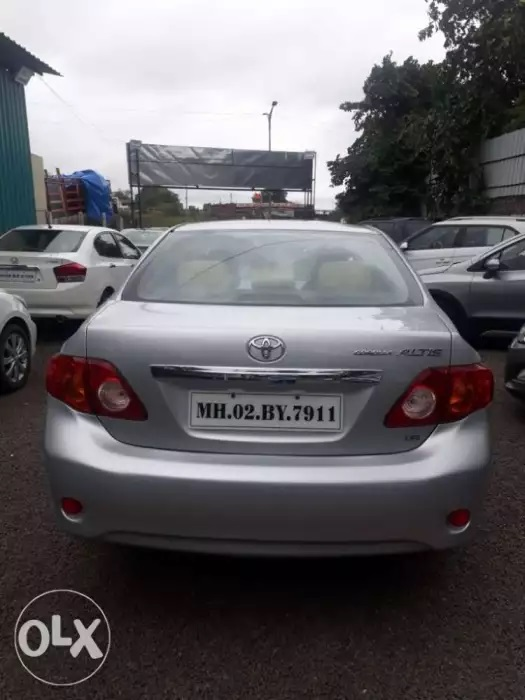licenseplate: (184, 387, 352, 438)
